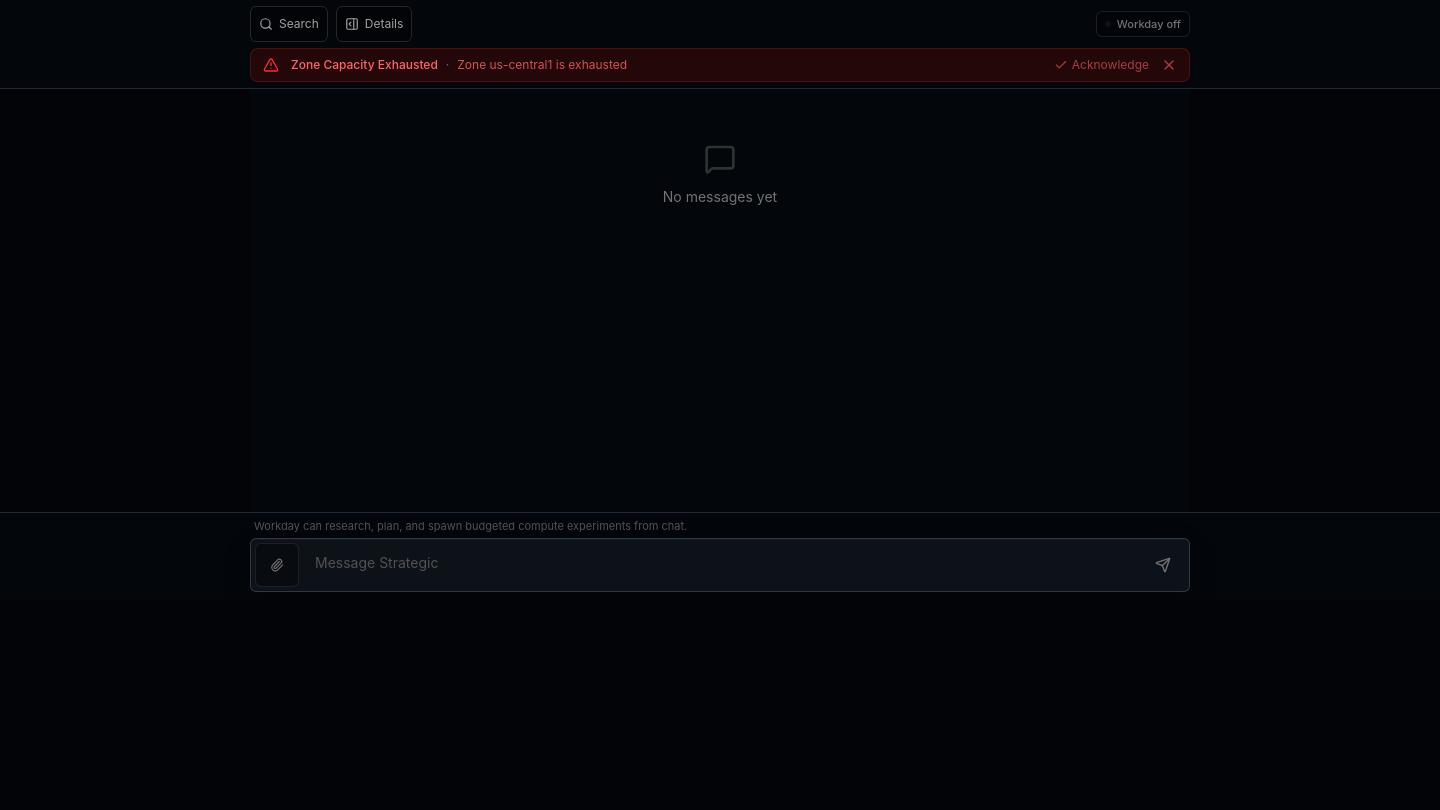
MessagesPanel chrome modes › chat detail toggle reveals the hidden context surfaces and restores the clean transcript
expect the element with test id "conversation-utility-alert" is shown: met, box [250,48,1190,82]
expect the element with test id "conversation-utility-alert" shows "Zone Capacity Exhausted": met, box [291,57,438,72]
Step 1. Click the button with test id "conversation-detail-toggle" → (374, 24), box [336,6,412,42]
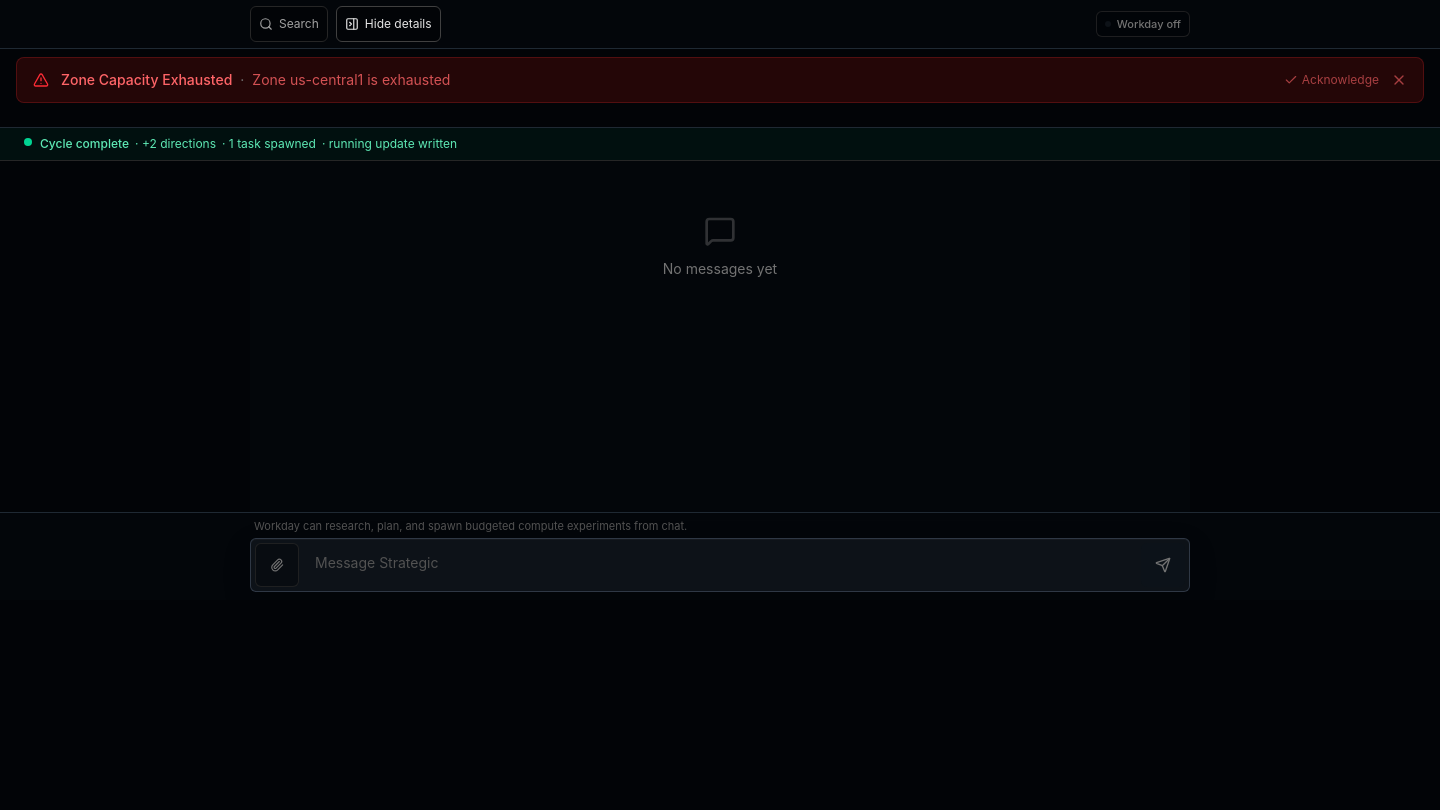
expect the element with test id "conversation-utility-alert" is gone: met
expect the text "Cycle complete" is shown: met, box [40,136,129,151]
expect the text "+2 directions" is shown: met, box [135,136,216,151]
Step 2. Click the button with test id "conversation-detail-toggle" → (388, 24), box [336,6,441,42]
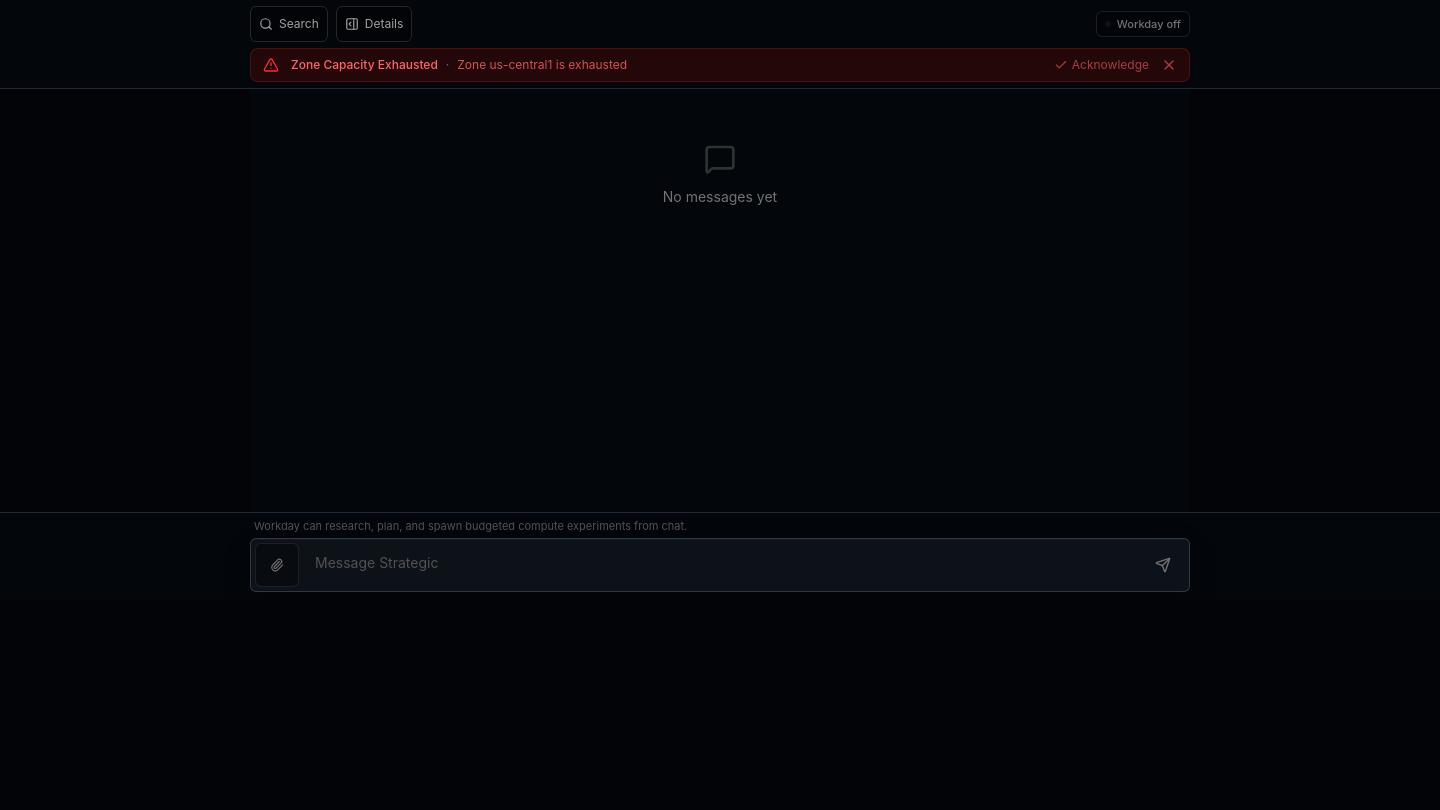
expect the element with test id "conversation-utility-alert" is shown: met, box [250,48,1190,82]
expect the element with test id "alerts-inline-banner" is gone: met
expect the text "Cycle complete" is gone: met
